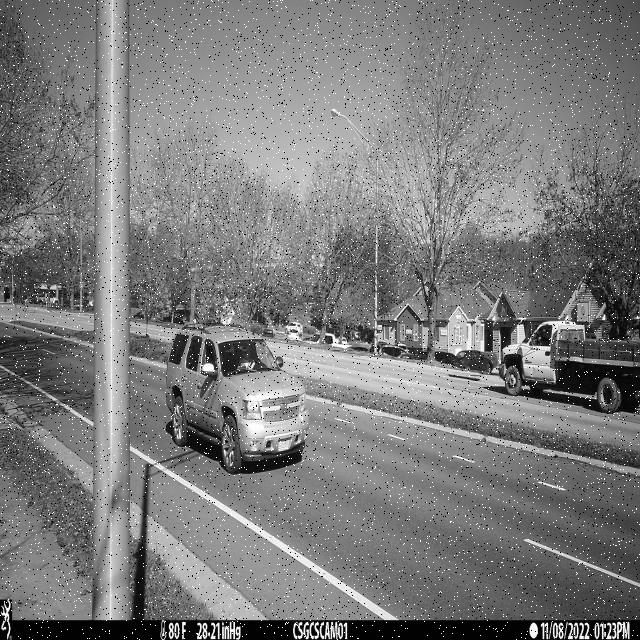SUV: (165, 321, 312, 475)
